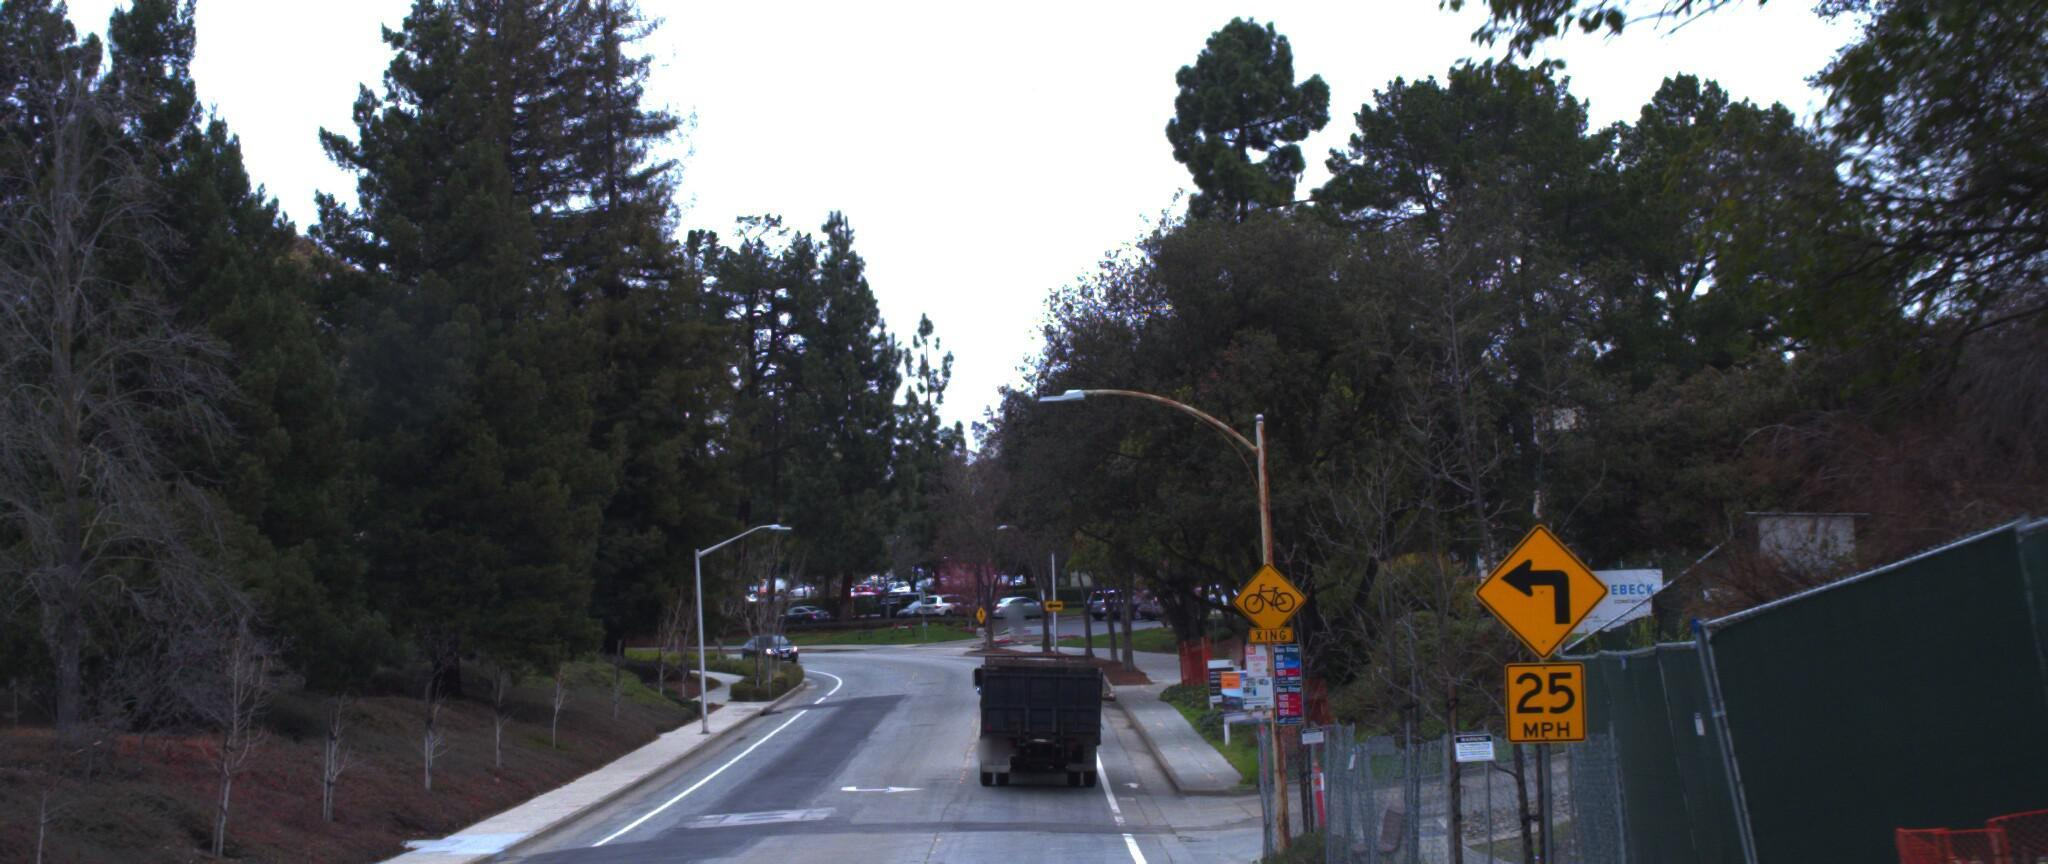car: (0, 804, 57, 864)
truck: (960, 613, 1105, 796)
